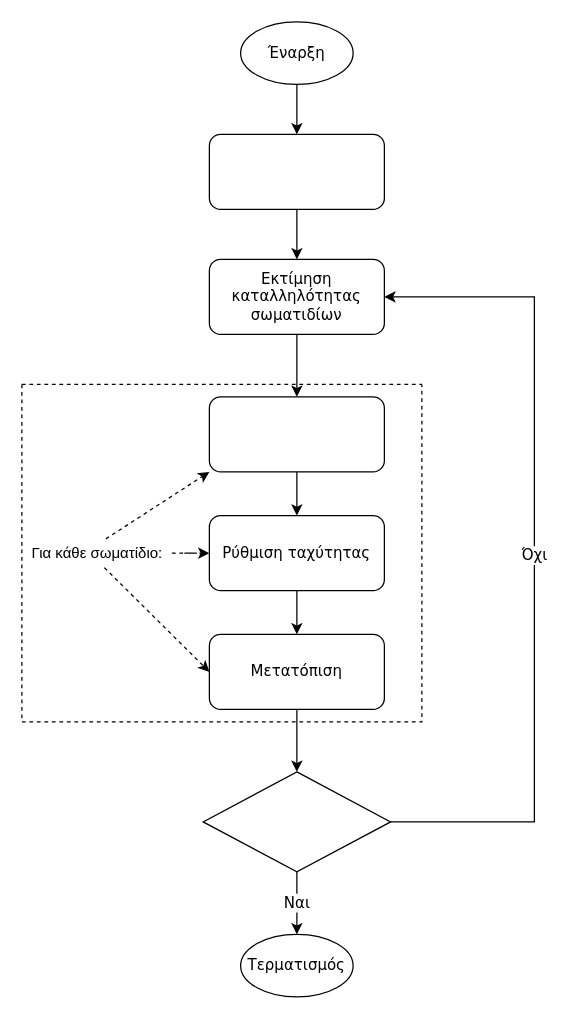
Some shapes in this 569 by 1019 pixel diagram are drawn without their labels. Here are the shapes that lost their labels. From the top down, the centre of each, then its label:
(x=296, y=171): Δημιουργία τυχαίου σμήνους
(x=296, y=434): Απομνημόνευση
(x=296, y=821): Ικανοποιητικό αποτέλεσμα;
